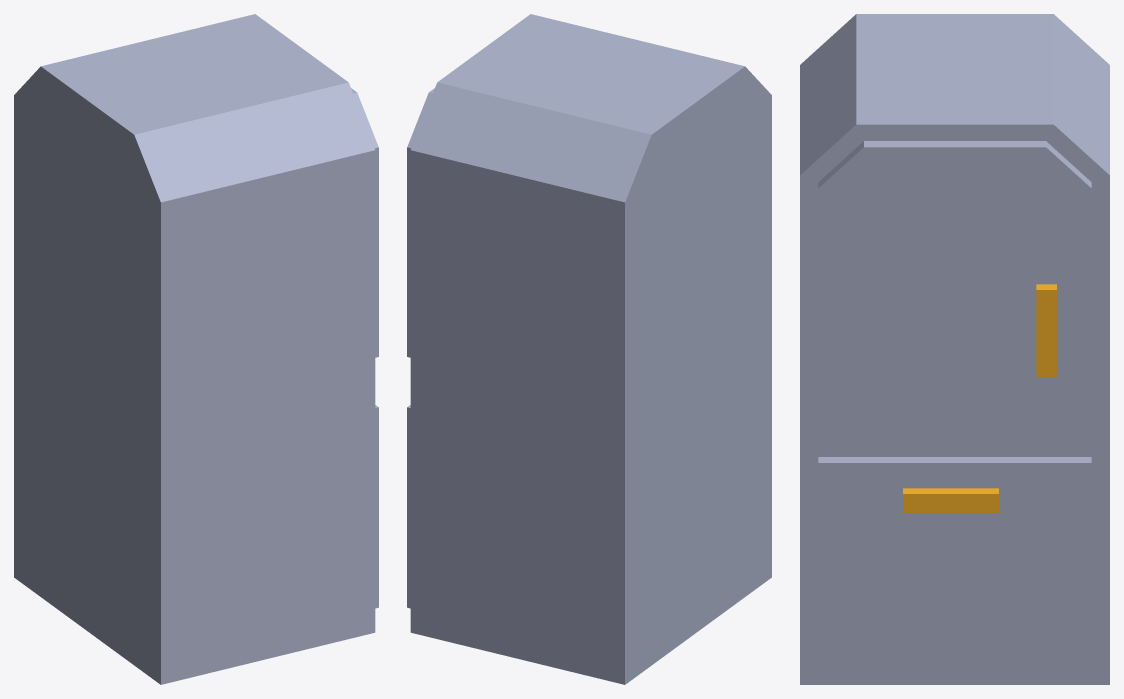
Rendered from Fridge.fbx.
The picture shows the model from 3 angles, left to right: view 1: azimuth 30°, elevation 25°; view 2: azimuth 150°, elevation 25°; view 3: azimuth 270°, elevation 25°; orthographic projection. The views are drawn at different scales.
Visible parts, largest first — view 1: Cube.016; view 2: Cube.016; view 3: Cube.016, Cube.019, Cube.017.
Part boxes in pixels (x1,y1,x2,y2): Cube.016: (14, 14, 378, 684); Cube.016: (407, 14, 771, 684); Cube.016: (800, 14, 1109, 684); Cube.019: (903, 488, 998, 512); Cube.017: (1036, 284, 1056, 376).
Size of the model in its own units: 79.78 by 85.32 by 170.
